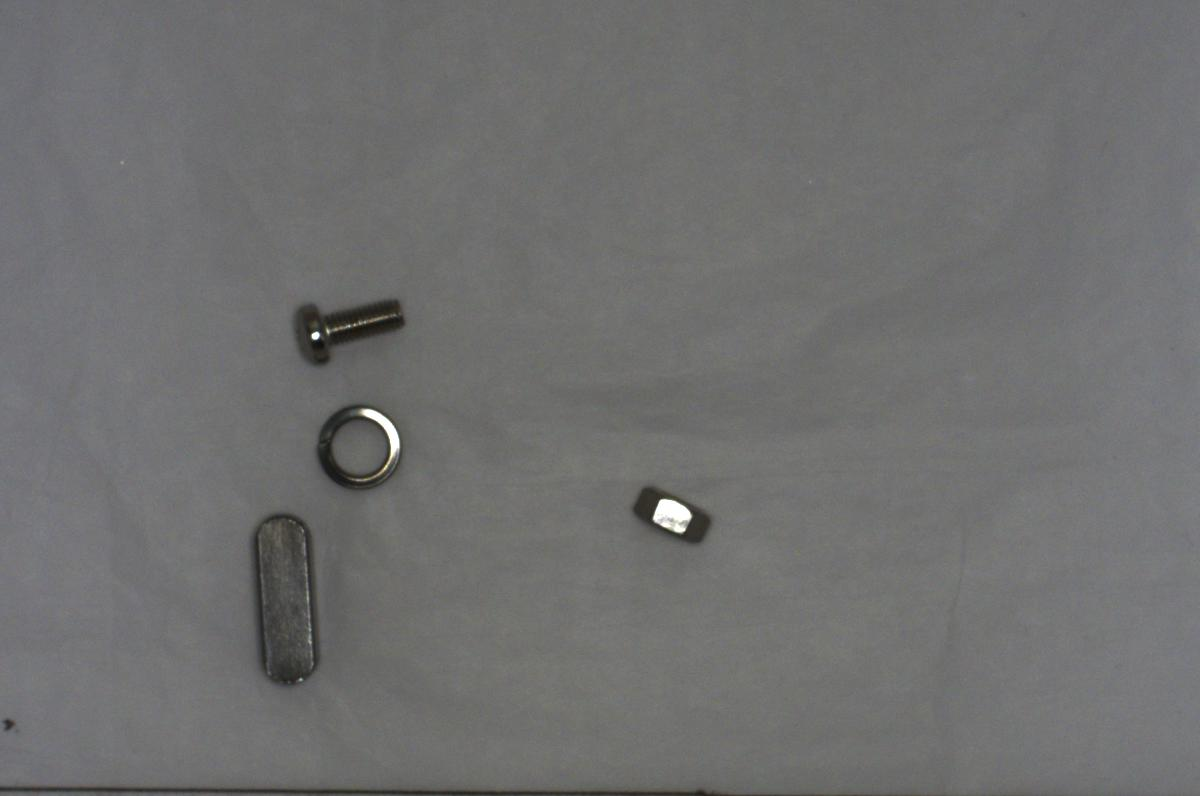Hexagon nut: (627, 475, 711, 558)
Keybar: (240, 506, 330, 693)
Round head screw: (290, 293, 407, 367)
Spring washer: (311, 403, 410, 490)
